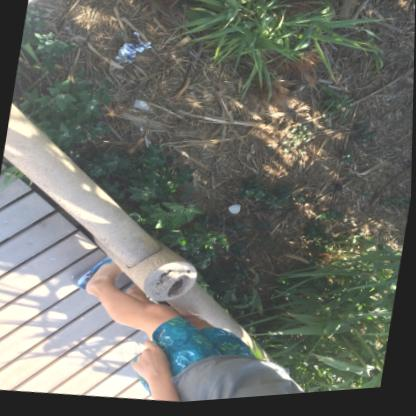Plastic: (114, 32, 150, 64), (133, 100, 149, 112)
Waste: (228, 207, 240, 216)
